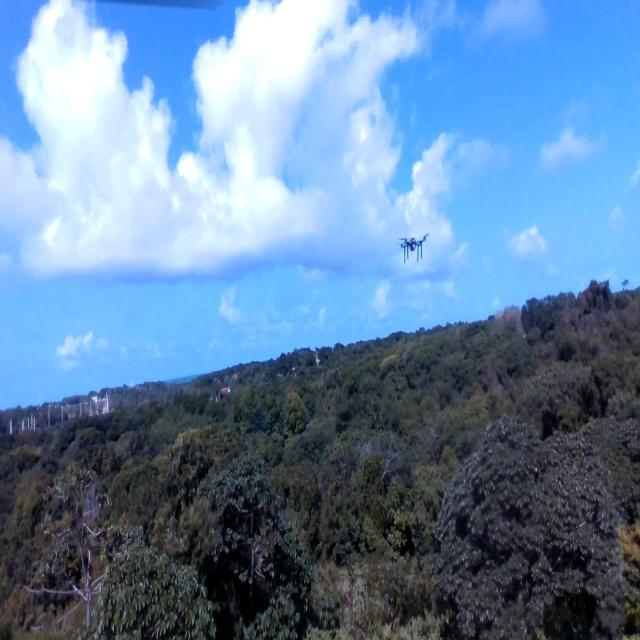-uav-: (392, 225, 437, 282)
